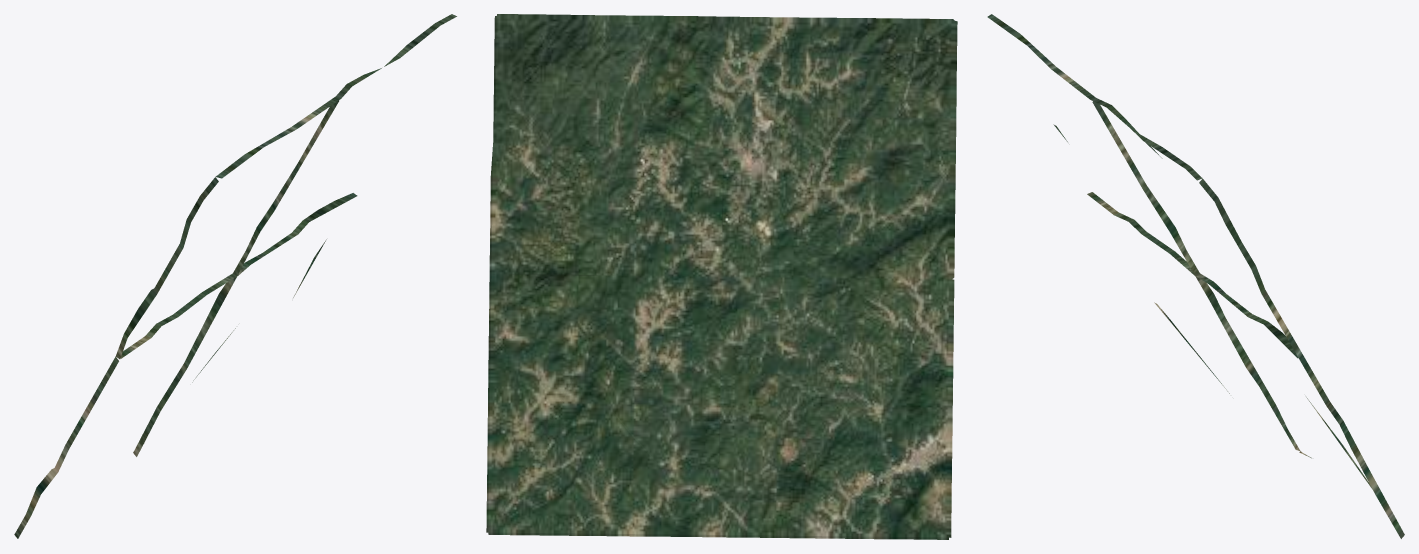
3 views of the same model, side by side, from view 1: azimuth 30°, elevation 25°; view 2: azimuth 150°, elevation 25°; view 3: azimuth 270°, elevation 25° (orthographic). The views are drawn at different scales.
Size of the model in its own units: 78938 by 70415 by 65693.
1 material, 1 textured.
